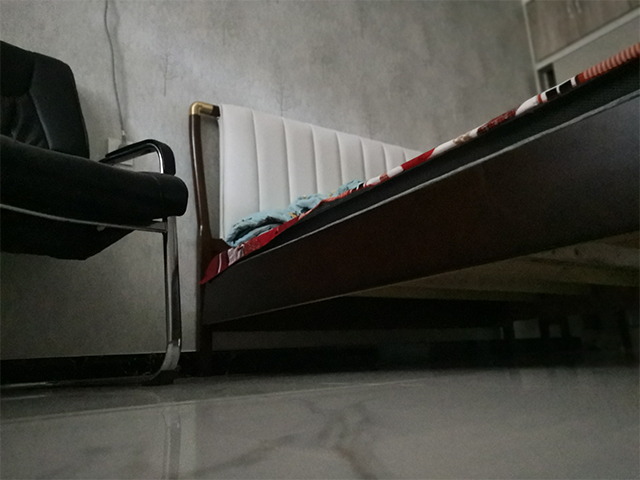bed: (187, 44, 639, 379)
stool: (1, 40, 190, 388)
